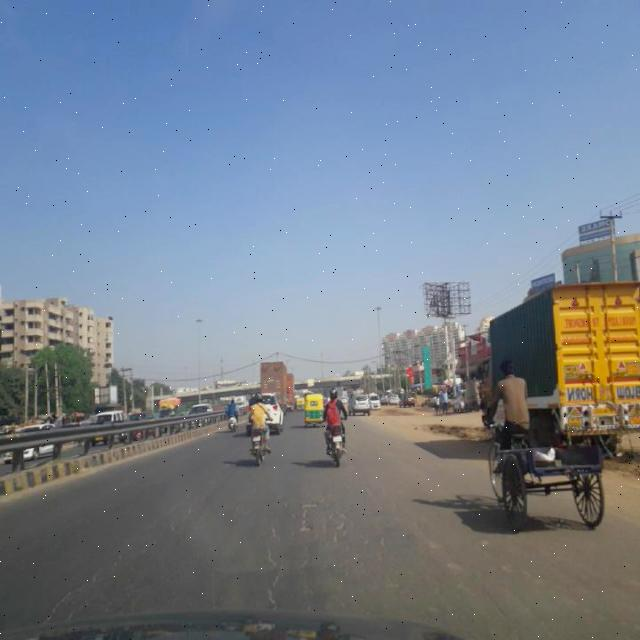D00: (49, 519, 175, 621), (258, 501, 289, 599)
D20: (257, 465, 402, 585)
